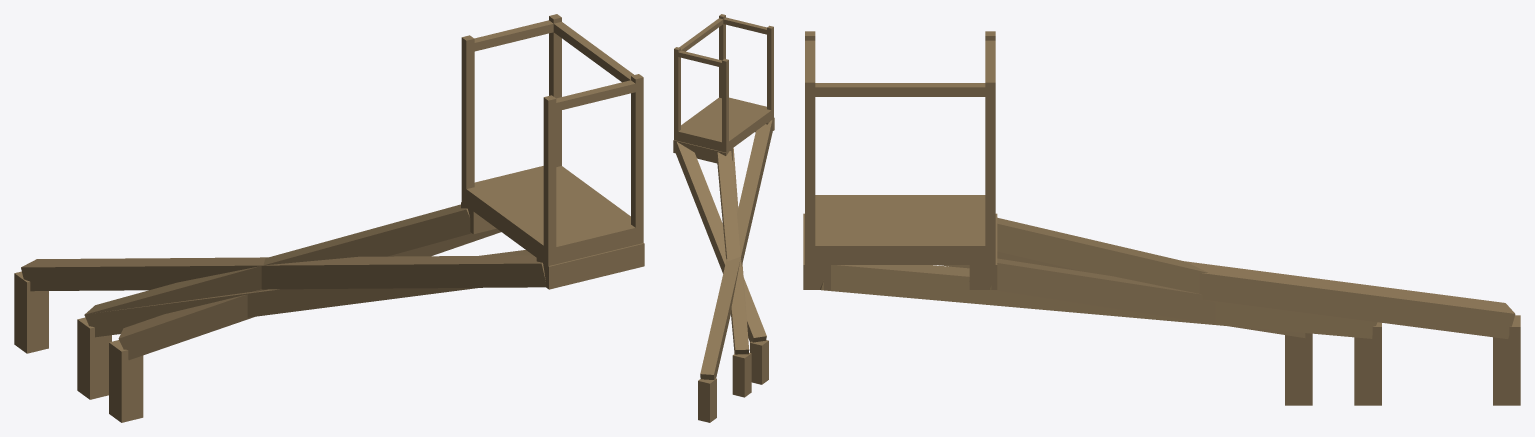
The model's file is worker-platform.glb.
3 views of the same model, side by side, from view 1: azimuth 30°, elevation 25°; view 2: azimuth 150°, elevation 25°; view 3: azimuth 270°, elevation 25° (orthographic). The views are drawn at different scales.
Visible parts, largest first — view 1: worker-platform-joined-timber; view 2: worker-platform-joined-timber; view 3: worker-platform-joined-timber.
Boxes of the visible parts, x1=… form: worker-platform-joined-timber: x1=14, y1=14, x2=644, y2=422; worker-platform-joined-timber: x1=673, y1=14, x2=774, y2=422; worker-platform-joined-timber: x1=803, y1=31, x2=1520, y2=405.
Size of the model in its own units: 2.25 by 3.02 by 4.14.
